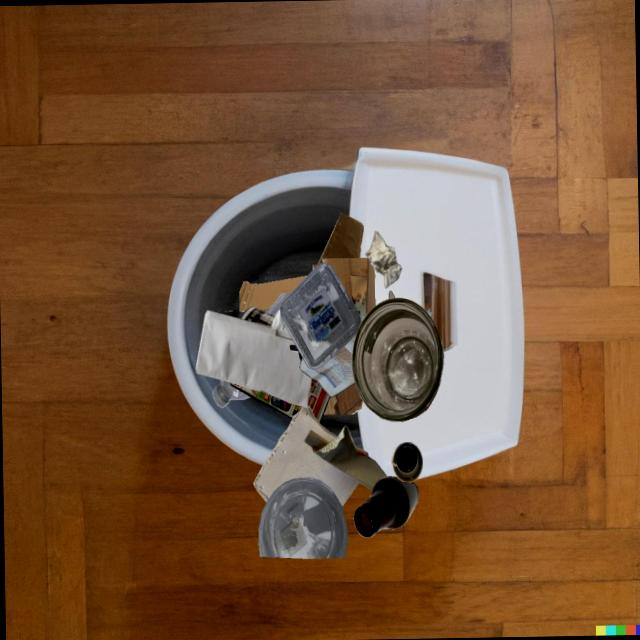cardboard: (303, 425, 387, 490), (322, 257, 375, 315), (316, 212, 363, 266), (239, 275, 307, 312), (323, 382, 363, 414)
glass: (351, 298, 443, 421), (353, 476, 418, 537), (391, 442, 422, 482)
paper: (195, 309, 311, 407), (253, 405, 359, 506), (308, 290, 429, 367), (231, 319, 313, 390), (299, 346, 355, 397), (364, 230, 401, 288)
plastic: (279, 262, 360, 369), (258, 477, 347, 558), (212, 379, 250, 407), (266, 292, 290, 317), (289, 344, 302, 362)
